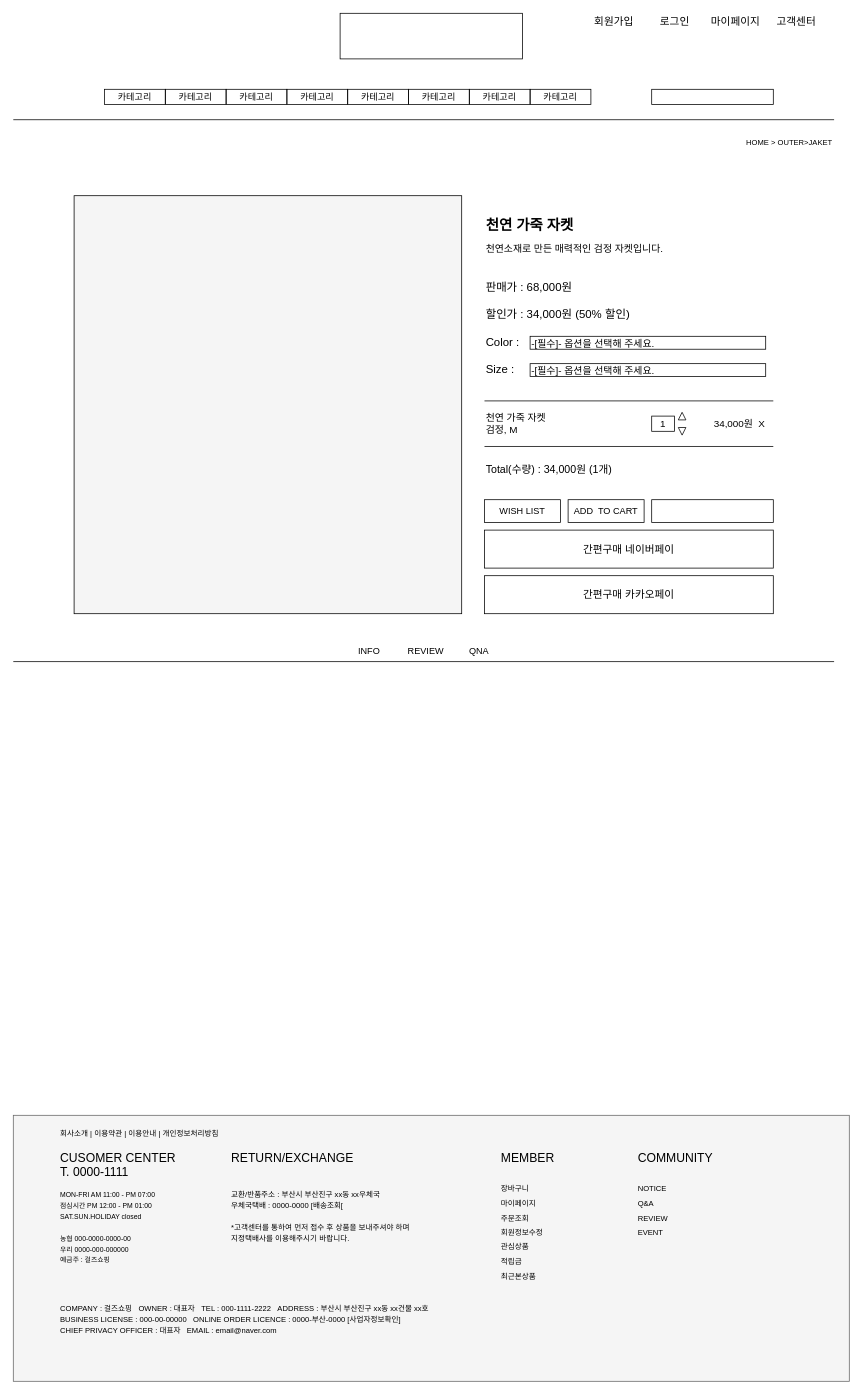
Image size: 863x1395. Some labels were removed from this diagram. Here are the shapes that lost their labels. From the top down, the centre of each, then its label:
At (430,36): "LOGO".
At (712,96): "검색창".
At (712,510): "BUY NOW".
